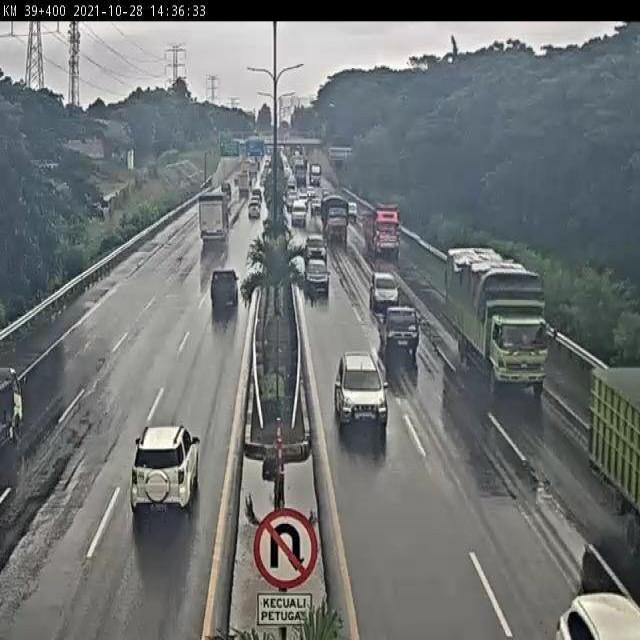big truck: (441, 259, 549, 388), (593, 369, 640, 496), (342, 352, 396, 441), (360, 205, 405, 252), (201, 199, 233, 241), (321, 202, 351, 235)
car: (139, 431, 201, 506), (563, 586, 640, 640), (384, 305, 421, 355), (207, 269, 244, 315), (369, 272, 397, 313), (305, 233, 333, 259), (307, 258, 327, 294), (293, 207, 308, 225), (249, 203, 261, 221)
